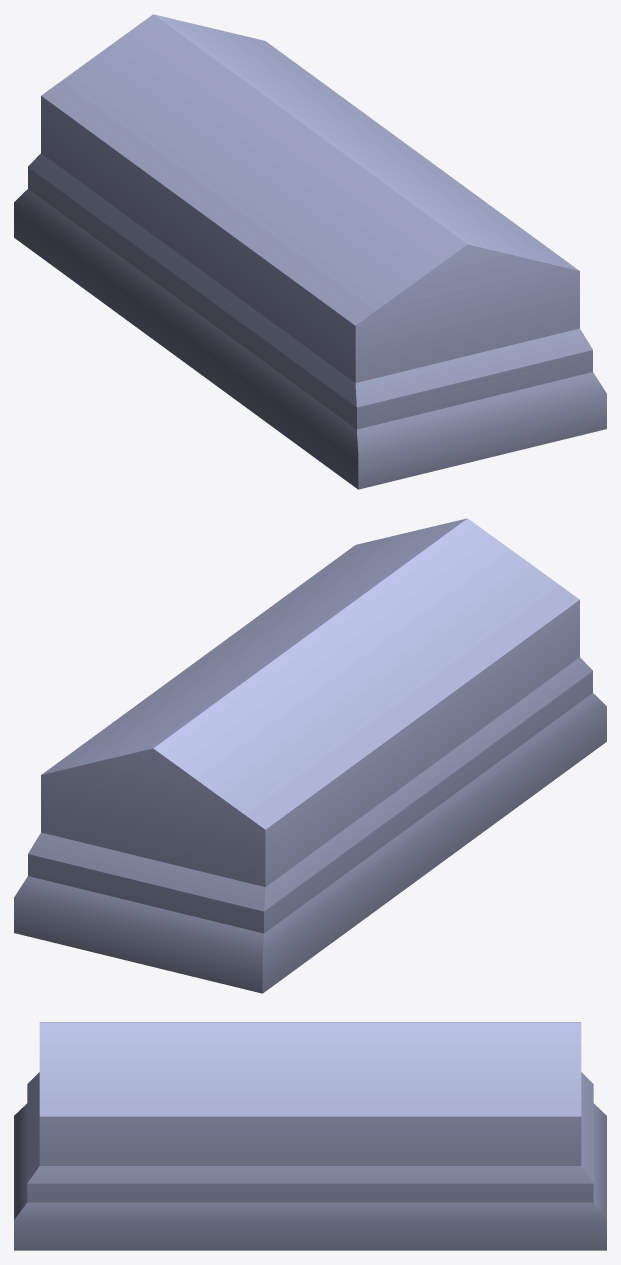
File: gravestone-flat.glb
3 views of the same model, one above another, from view 1: azimuth 30°, elevation 25°; view 2: azimuth 150°, elevation 25°; view 3: azimuth 270°, elevation 25° (orthographic). The views are drawn at different scales.
Visible parts, largest first — view 1: Asset3DLoader.sceneRoot; view 2: Asset3DLoader.sceneRoot; view 3: Asset3DLoader.sceneRoot.
Part boxes in pixels (bbox=[...]): Asset3DLoader.sceneRoot: bbox=[14, 14, 606, 489]; Asset3DLoader.sceneRoot: bbox=[14, 518, 606, 993]; Asset3DLoader.sceneRoot: bbox=[14, 1022, 606, 1250].
Bounding box in the file's own units: 0.472 × 0.37 × 1.13.
Materials: 1 (1 with a texture image).
